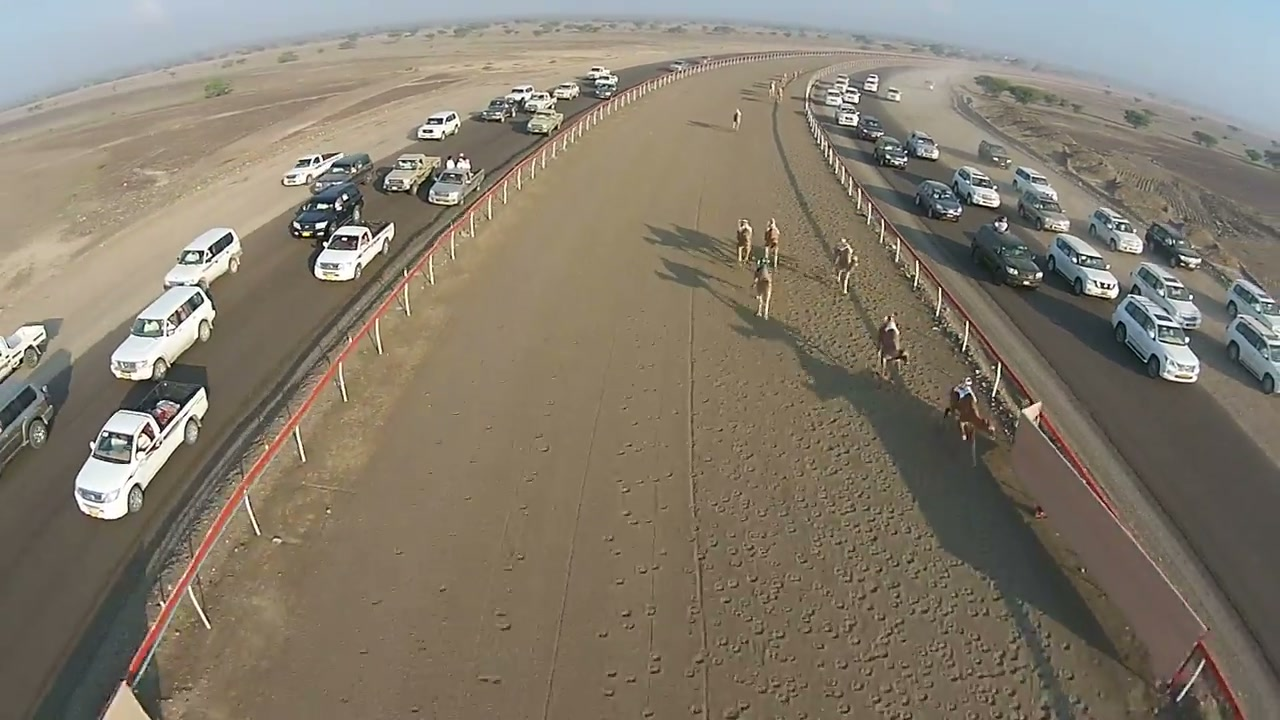animal_footprint: (711, 333, 1144, 713)
